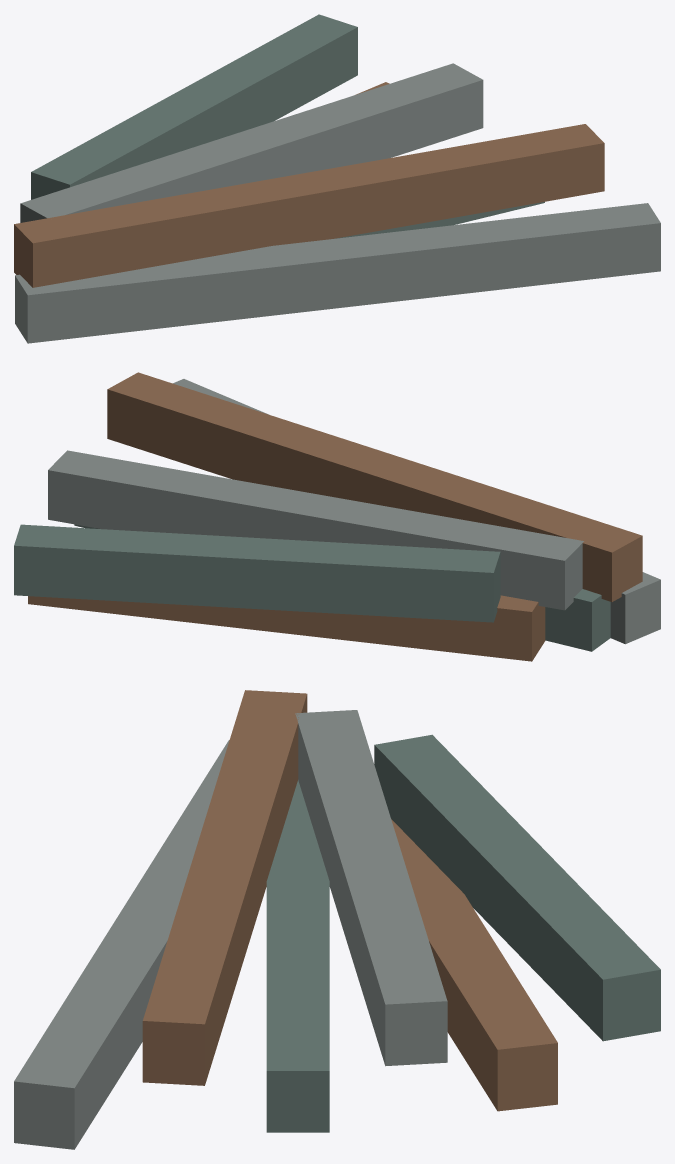
File: v2_scrap_beams.glb
3 renders of one model, top to bottom at view 1: azimuth 30°, elevation 25°; view 2: azimuth 150°, elevation 25°; view 3: azimuth 270°, elevation 25°, orthographic. The views are drawn at different scales.
Parts seen in each view (by area): view 1: Cube; view 2: Cube; view 3: Cube.
Boxes of the visible parts, bbox=[...] form: Cube: bbox=[14, 14, 660, 343]; Cube: bbox=[14, 372, 660, 661]; Cube: bbox=[14, 690, 660, 1149].
Size of the model in its own units: 1.16 by 0.1842 by 0.9121.
